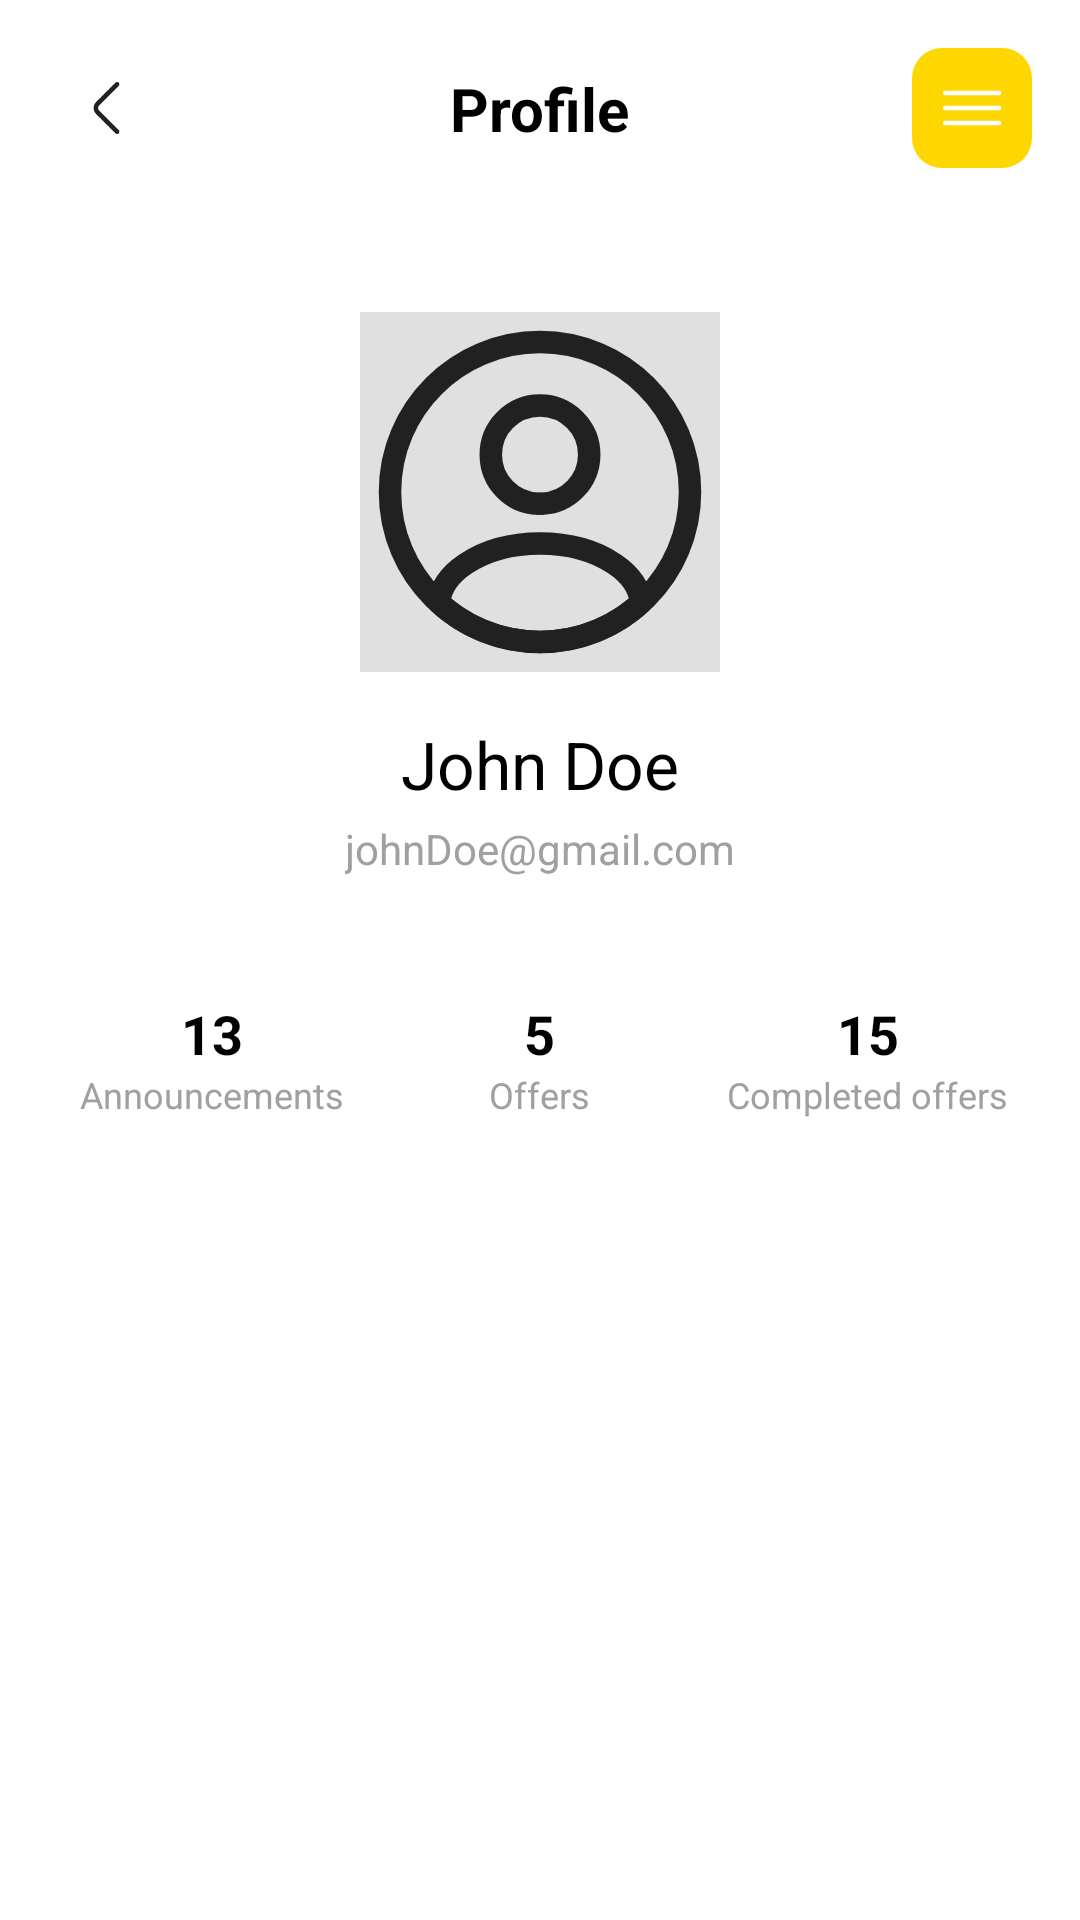

Locate icon controls on the screen. Image size 1080px x 1920px, boxes as rect(x1, y1, x2, y2).
Menu du Profil: rect(912, 48, 1032, 168)
Photo de profil: rect(360, 312, 720, 672)
Retour: rect(93, 82, 120, 134)
